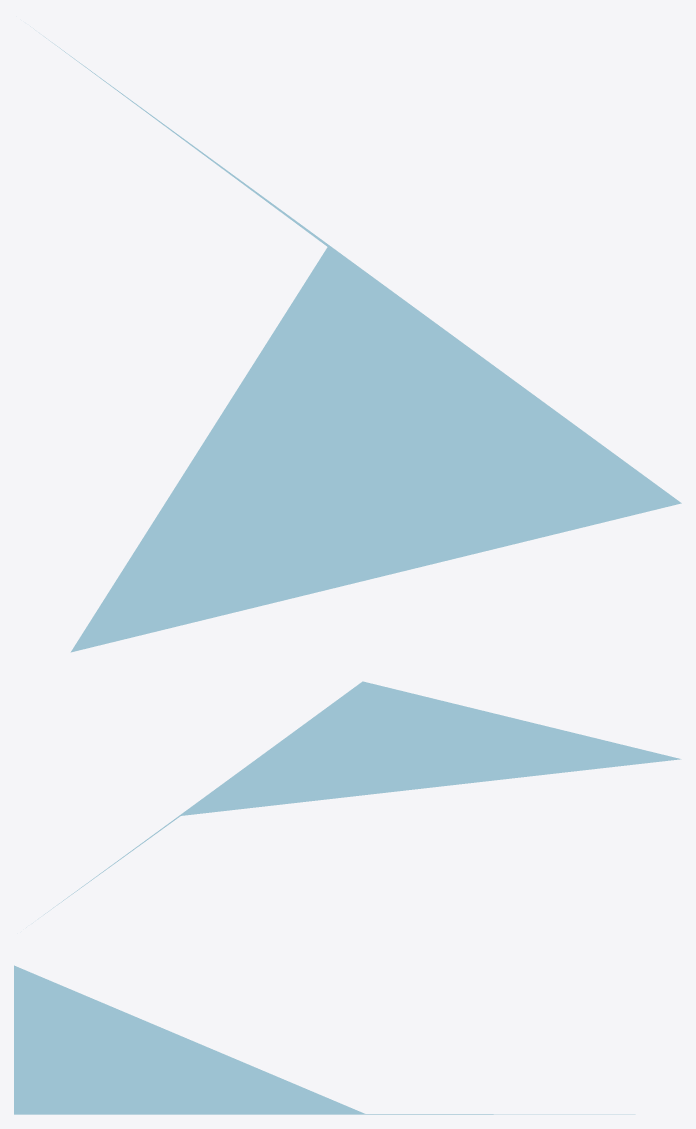
Rendered from terrain-context-C-x3-z2.glb.
3 renders of one model, top to bottom at view 1: azimuth 30°, elevation 25°; view 2: azimuth 150°, elevation 25°; view 3: azimuth 270°, elevation 25°, orthographic. The views are drawn at different scales.
Parts seen in each view (by area): view 1: C-x3-z2; view 2: C-x3-z2; view 3: C-x3-z2.
Part boxes in pixels (<box>): C-x3-z2: <box>30,26,681,652</box>; C-x3-z2: <box>26,681,681,927</box>; C-x3-z2: <box>14,965,635,1114</box>.
Size of the model in its own units: 100 by 2.55e-05 by 190.
